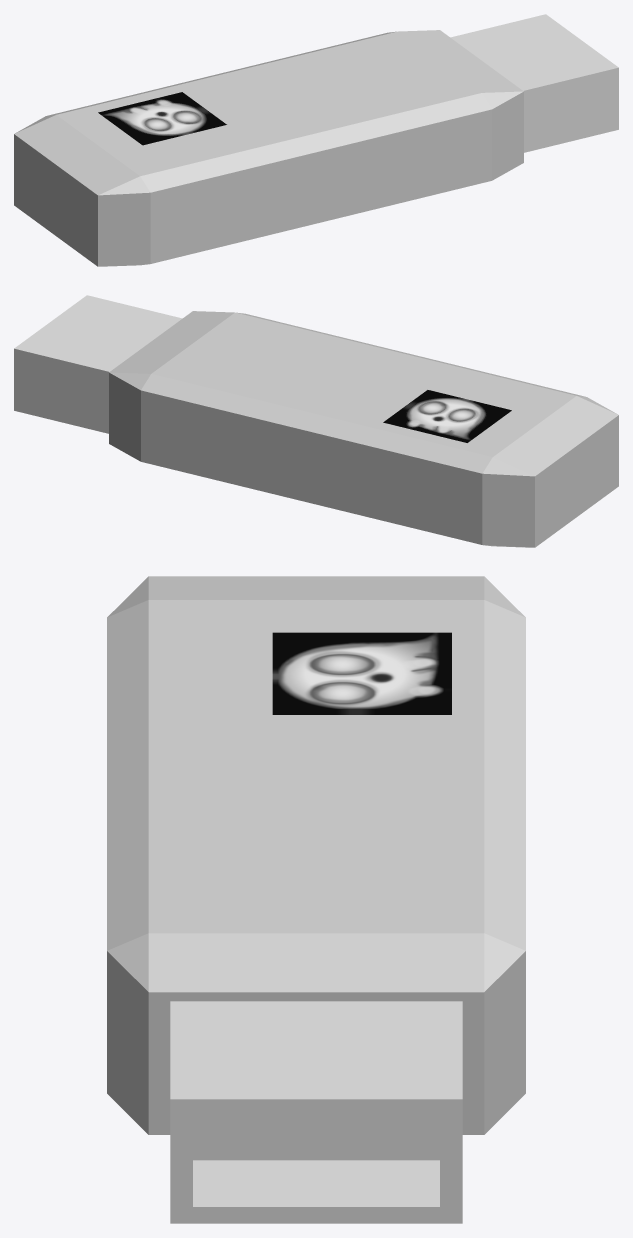
The model's file is USB.fbx.
3 renders of one model, top to bottom at view 1: azimuth 30°, elevation 25°; view 2: azimuth 150°, elevation 25°; view 3: azimuth 270°, elevation 25°, orthographic. The views are drawn at different scales.
Parts seen in each view (by area): view 1: USB; view 2: USB; view 3: USB.
Part boxes in pixels (left/top/right/bottom): USB: left=14, top=14, right=618, bottom=266; USB: left=14, top=295, right=618, bottom=547; USB: left=107, top=576, right=525, bottom=1223.
Bounding box in the file's own units: 50.12 × 8.1 × 17.27.
